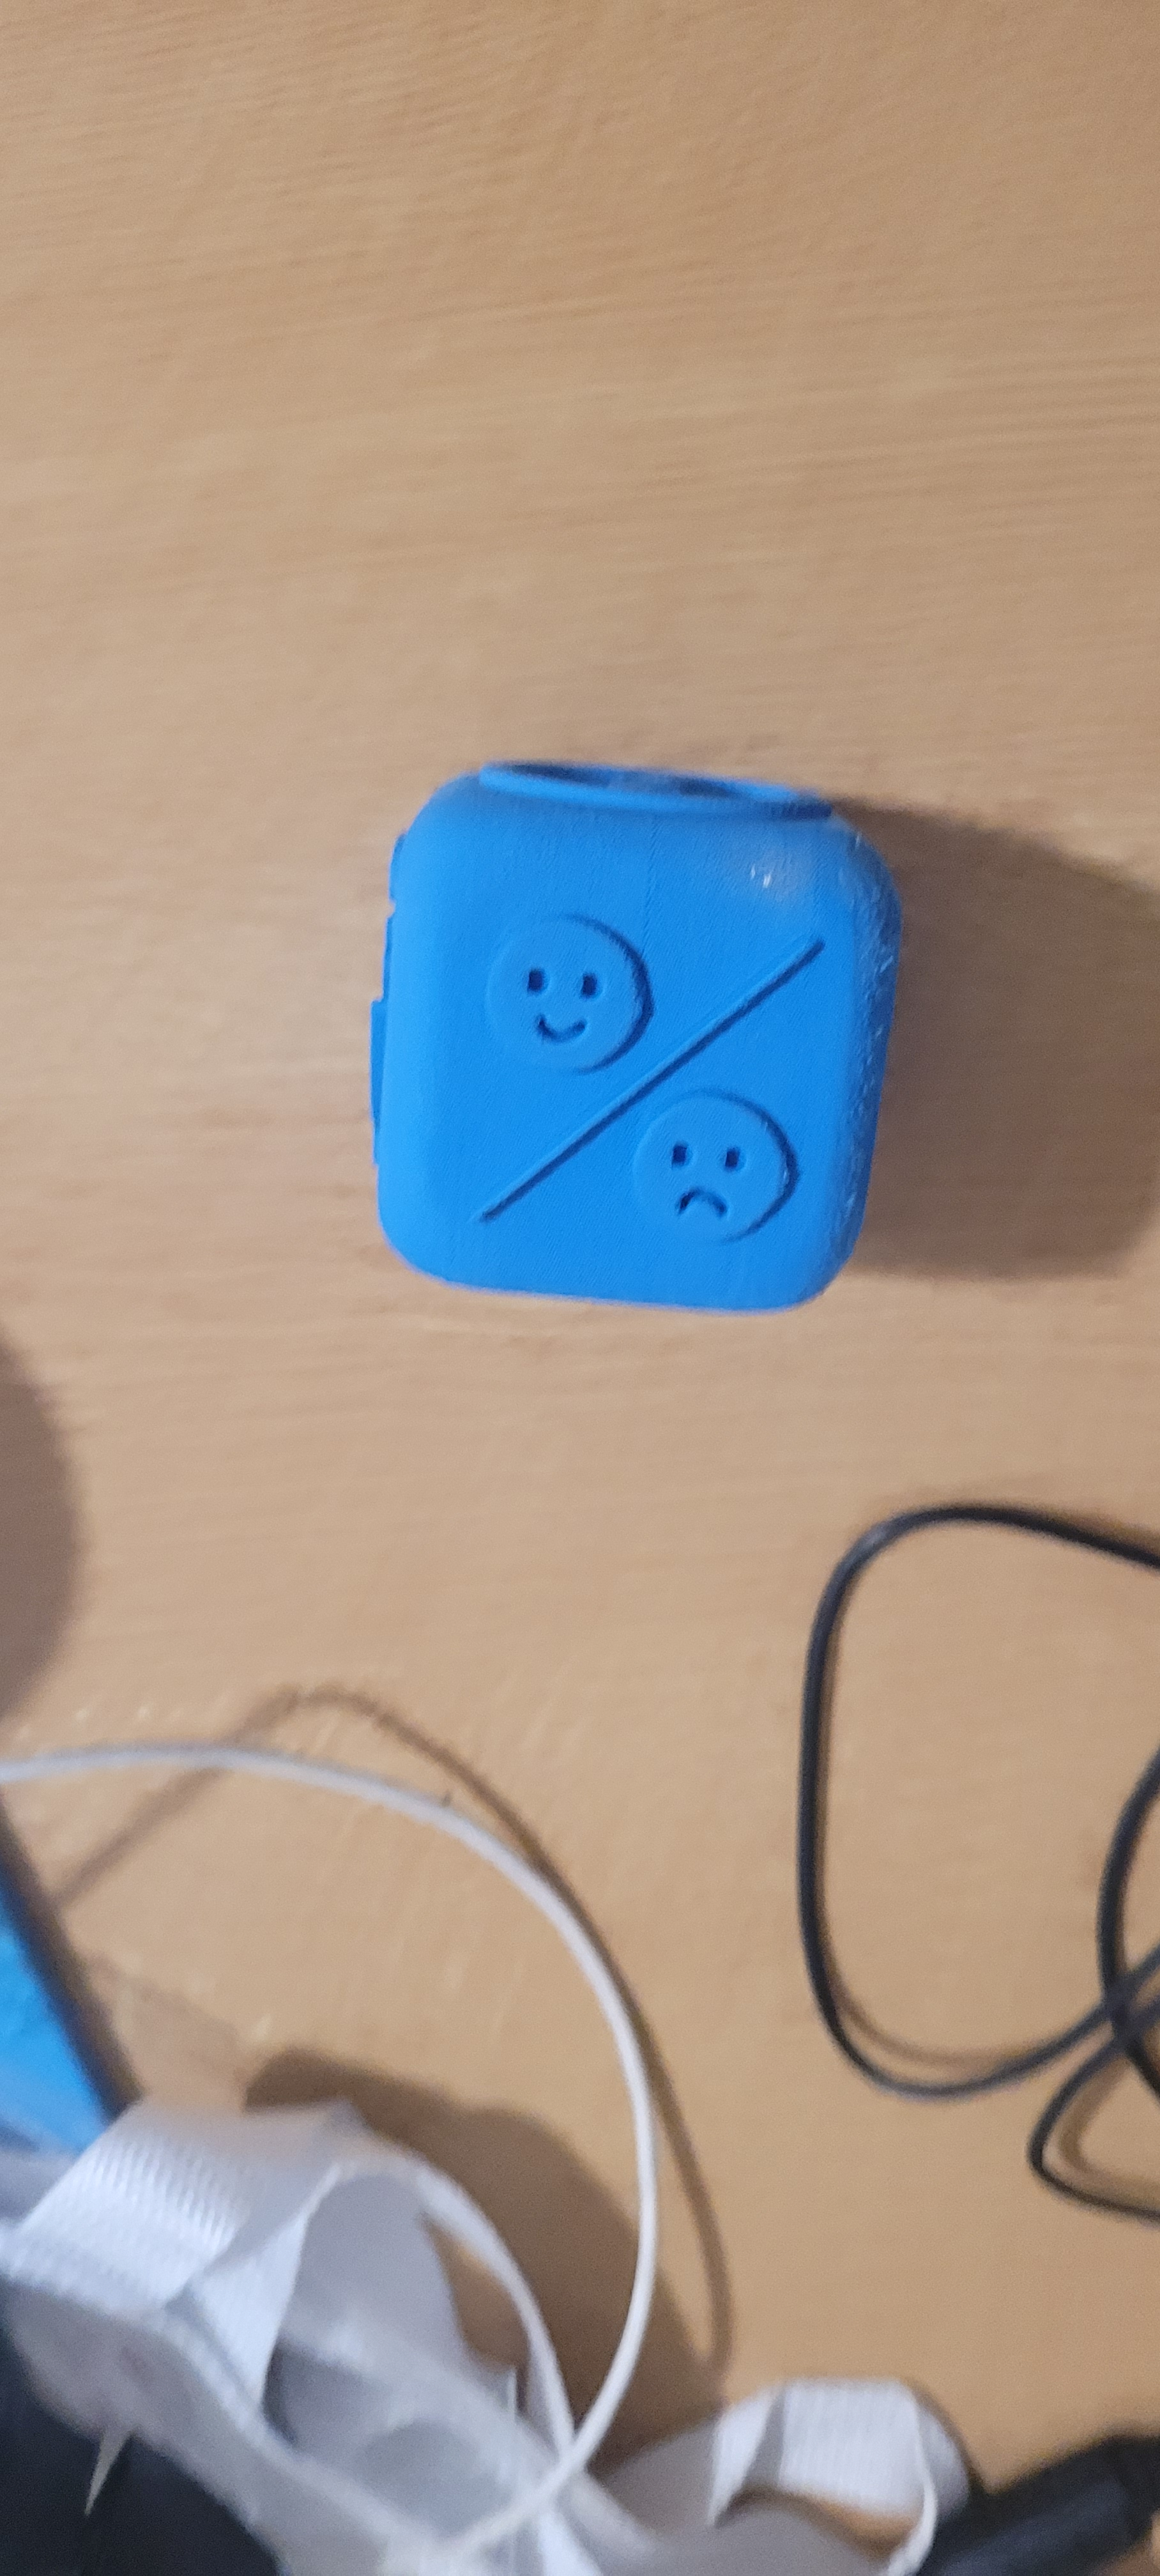Like/Dislike: (370, 792, 836, 1262)
